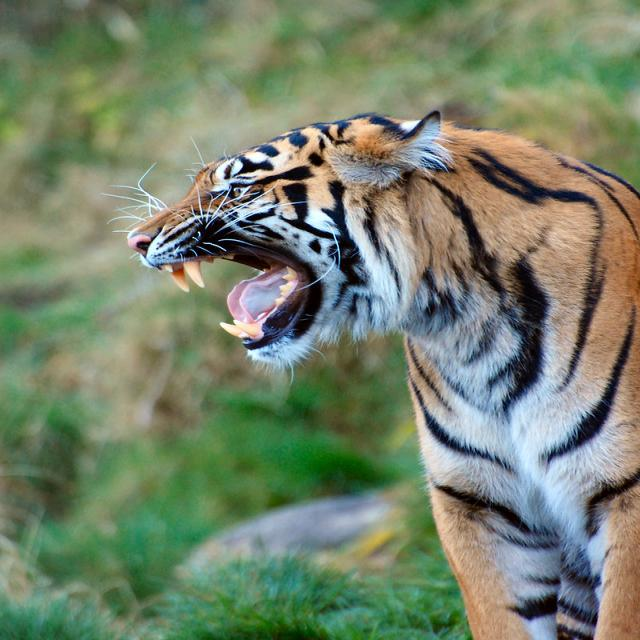Tiger: (100, 107, 636, 613)
